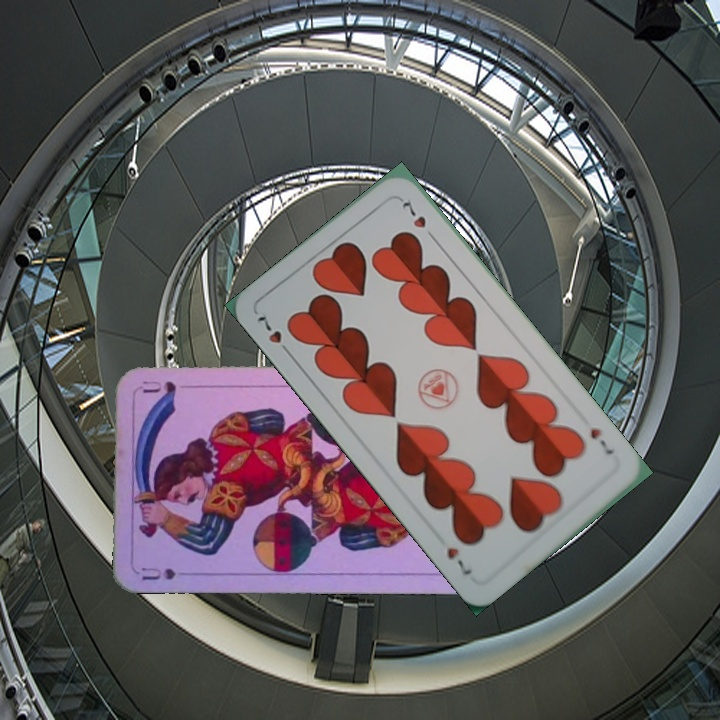H7: (252, 309, 295, 360), (586, 424, 616, 458)
SU: (137, 564, 178, 583)
